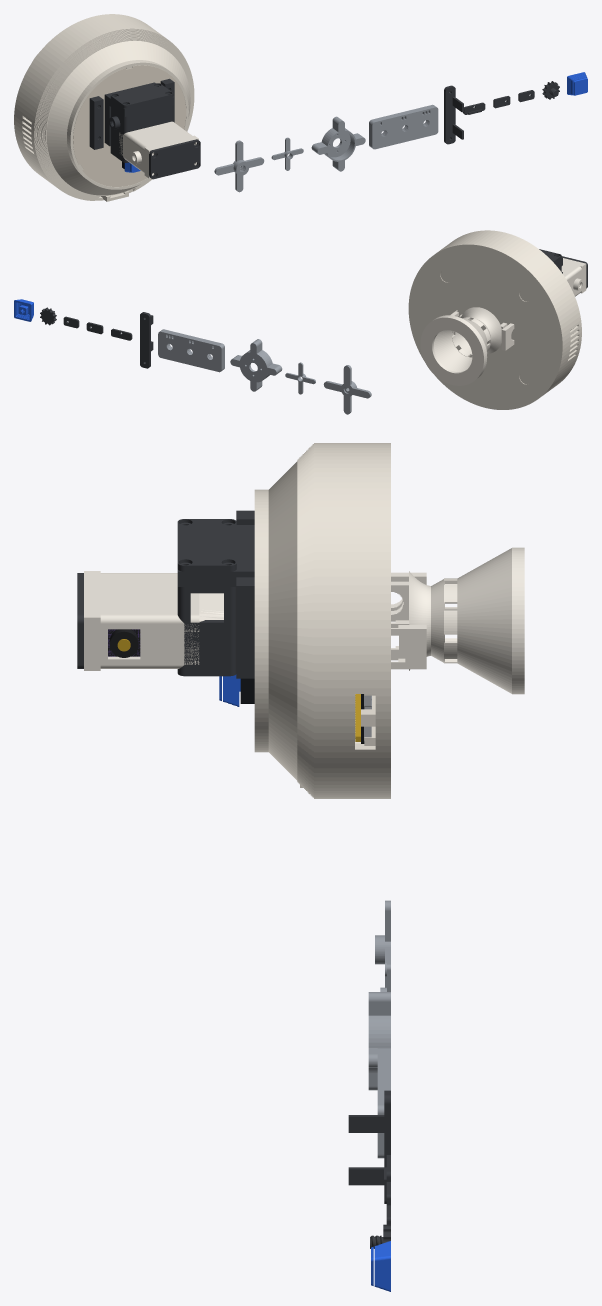
File: hotaru-rig.glb
3 views of the same model, one above another, from view 1: azimuth 30°, elevation 25°; view 2: azimuth 150°, elevation 25°; view 3: azimuth 270°, elevation 25° (orthographic). The views are drawn at different scales.
Visible parts, largest first — view 1: shoulder, base, lid, base-joint, spline-test, arm-lower, cap-shoulder, horn-adapter, cap-base, spk-clamp, horn-mg996r, keycap (+1 smaller); view 2: base, shade, spline-test, horn-adapter, arm-lower, horn-mg996r, spk-clamp, keycap, horn-sg90; view 3: base, shoulder, shade, arm-lower, base-joint, cap-base, spk-clamp, horn-adapter.
Boxes of the visible parts, bbox=[...] form: shoulder: bbox=[33, 28, 194, 200]; base: bbox=[14, 14, 165, 201]; lid: bbox=[73, 65, 186, 186]; base-joint: bbox=[89, 78, 174, 162]; spline-test: bbox=[369, 104, 438, 149]; arm-lower: bbox=[119, 121, 198, 178]; cap-shoulder: bbox=[149, 139, 200, 179]; horn-adapter: bbox=[311, 116, 365, 171]; cap-base: bbox=[110, 83, 173, 108]; spk-clamp: bbox=[444, 85, 463, 144]; horn-mg996r: bbox=[214, 140, 264, 192]; keycap: bbox=[567, 72, 587, 95]; base: bbox=[408, 230, 581, 409]; shade: bbox=[420, 307, 507, 385]; spline-test: bbox=[158, 329, 224, 372]; horn-adapter: bbox=[230, 339, 282, 391]; arm-lower: bbox=[450, 258, 586, 350]; horn-mg996r: bbox=[323, 365, 371, 414]; spk-clamp: bbox=[140, 312, 153, 368]; keycap: bbox=[14, 299, 33, 321]; horn-sg90: bbox=[285, 362, 315, 394]; base: bbox=[300, 443, 390, 798]; shoulder: bbox=[254, 443, 315, 798]; shade: bbox=[391, 547, 524, 694]; arm-lower: bbox=[84, 571, 426, 670]; base-joint: bbox=[177, 510, 254, 678]; cap-base: bbox=[177, 519, 236, 571]; spk-clamp: bbox=[348, 1090, 390, 1203]; horn-adapter: bbox=[368, 992, 390, 1090].
Bounding box in the file's own units: 570 × 203 × 201.
